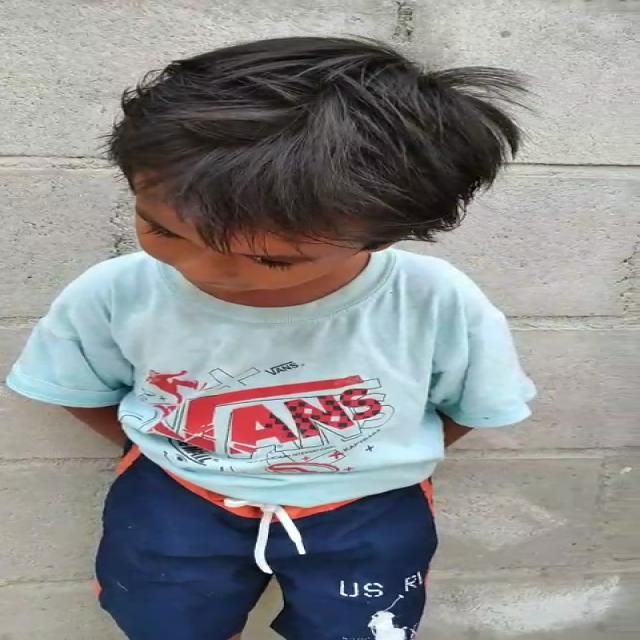9_cabeza_baja: (113, 37, 532, 291)
